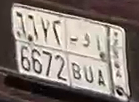2: (53, 18, 68, 84)
6: (14, 8, 31, 72), (29, 10, 42, 74)
7: (42, 14, 53, 78)
A: (96, 34, 108, 90)
B: (70, 31, 82, 81)
U: (83, 32, 95, 84)
